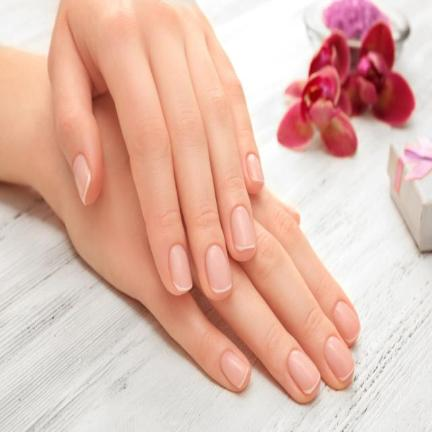Nail: (288, 350, 321, 394), (324, 336, 355, 382), (205, 245, 232, 293), (169, 244, 193, 291), (334, 301, 361, 342), (231, 206, 255, 251), (220, 351, 249, 388), (72, 154, 91, 206), (247, 153, 264, 182)
